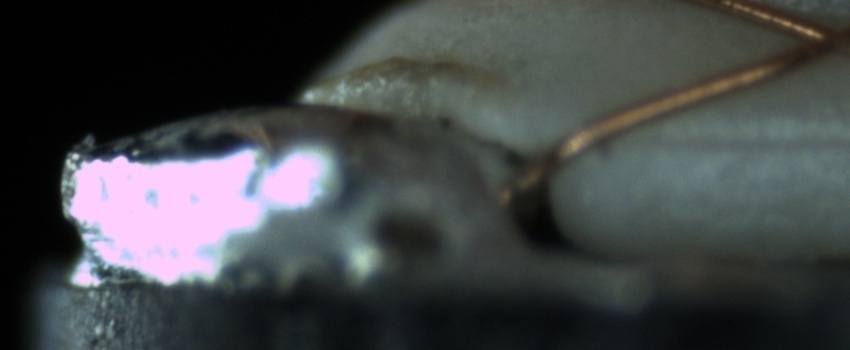CL: (767, 4, 850, 66)
DL: (631, 102, 847, 173)
